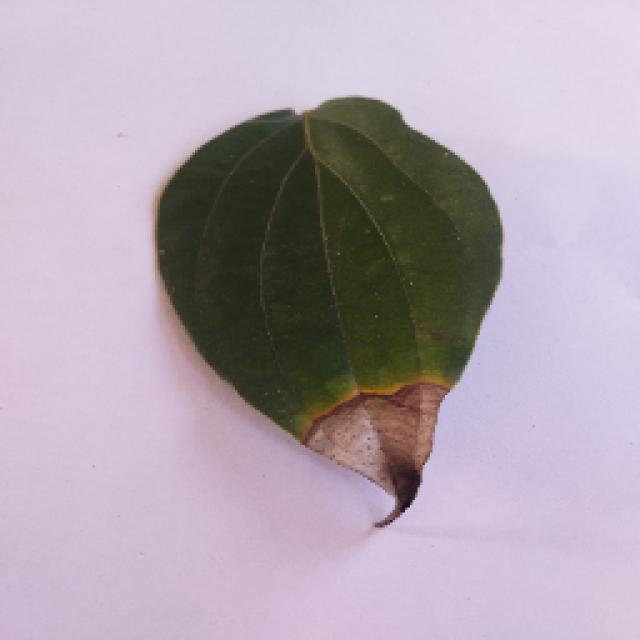footrot: (147, 92, 505, 530)
